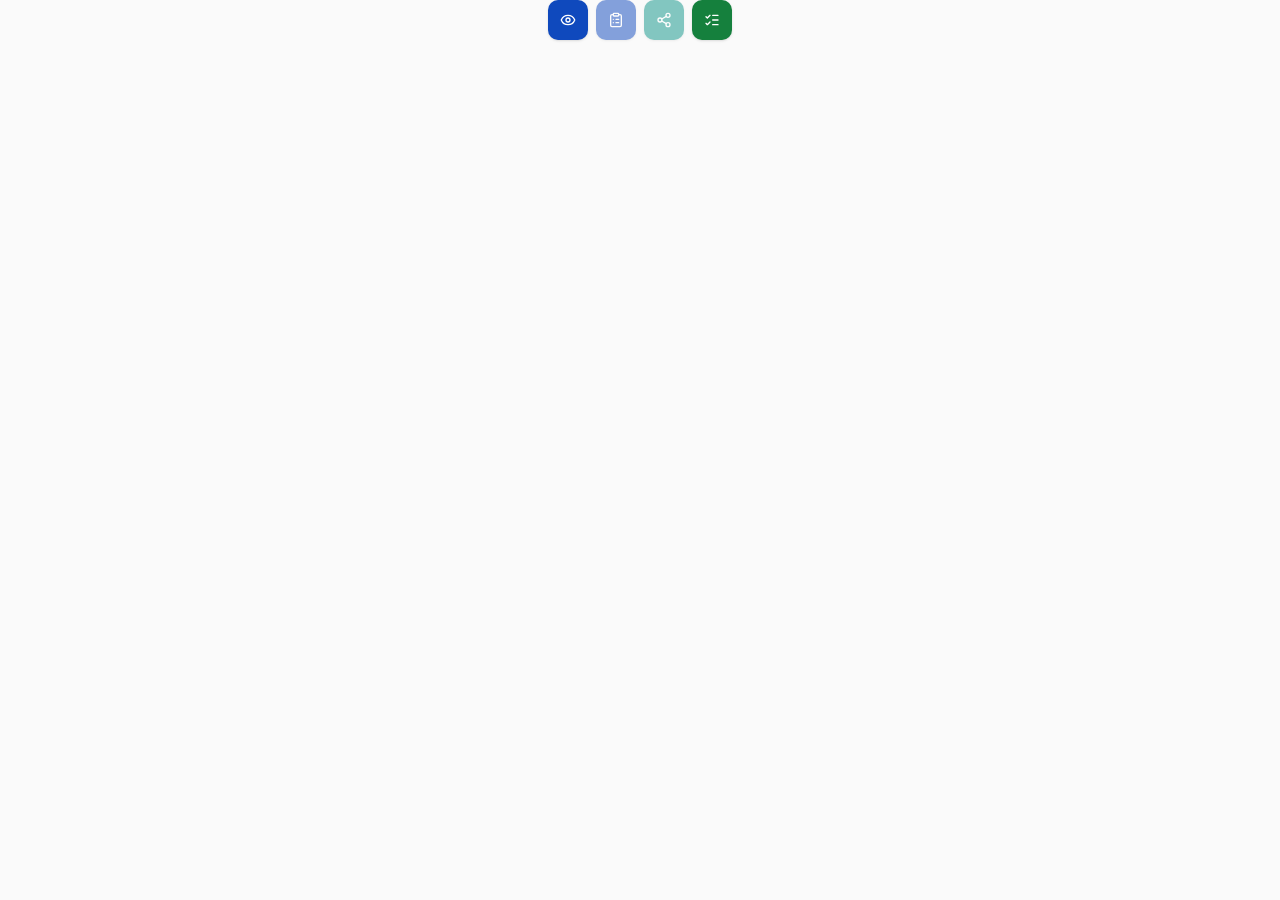
it: watchlist case actions › shows an empty observation history without opening a case
Step 1. Click the button named "ดูข้อสังเกตทั้งหมดของ" → (568, 20), box [548,0,588,40]
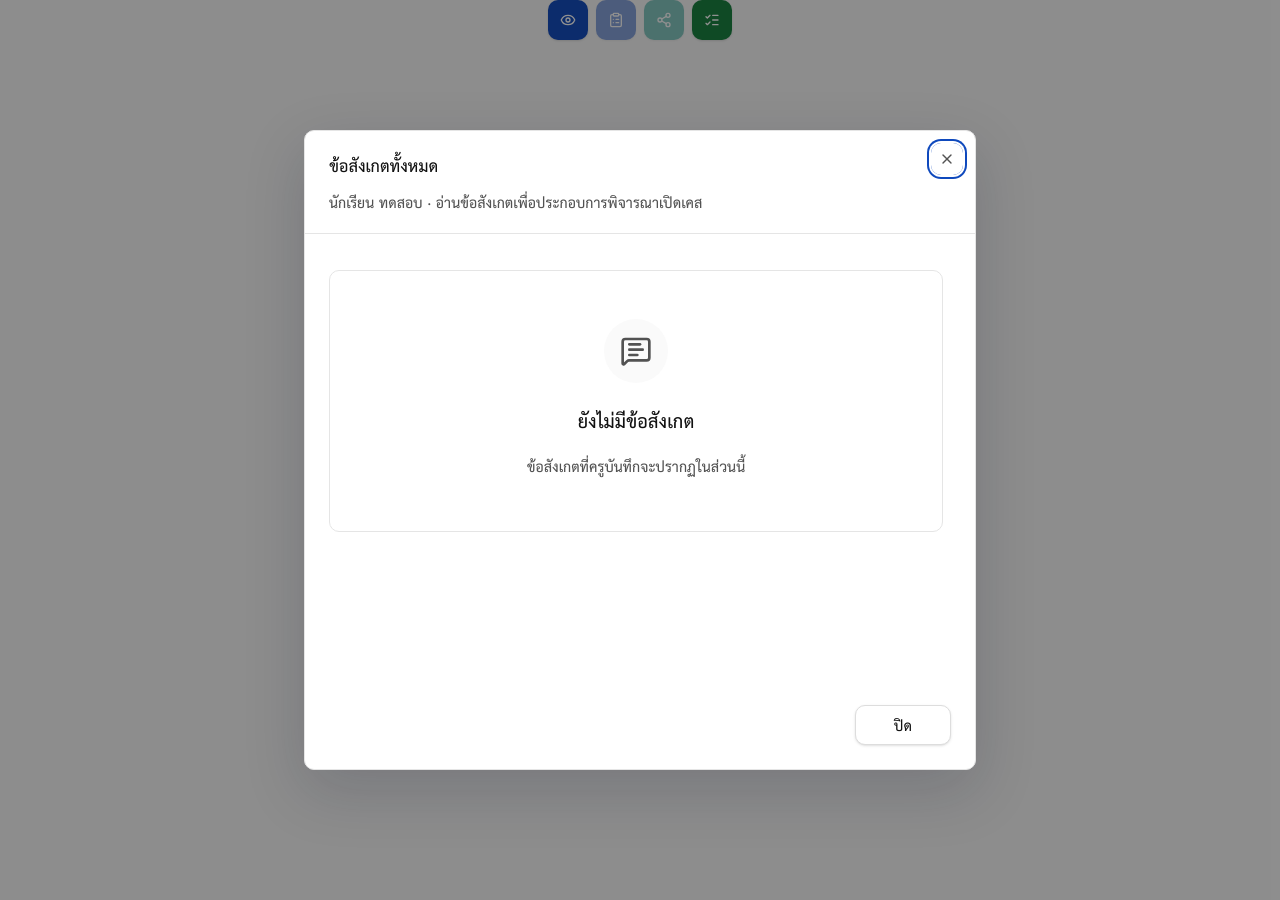
Now the heading "ยังไม่มีข้อสังเกต" is shown, box [578,405,694,435]
